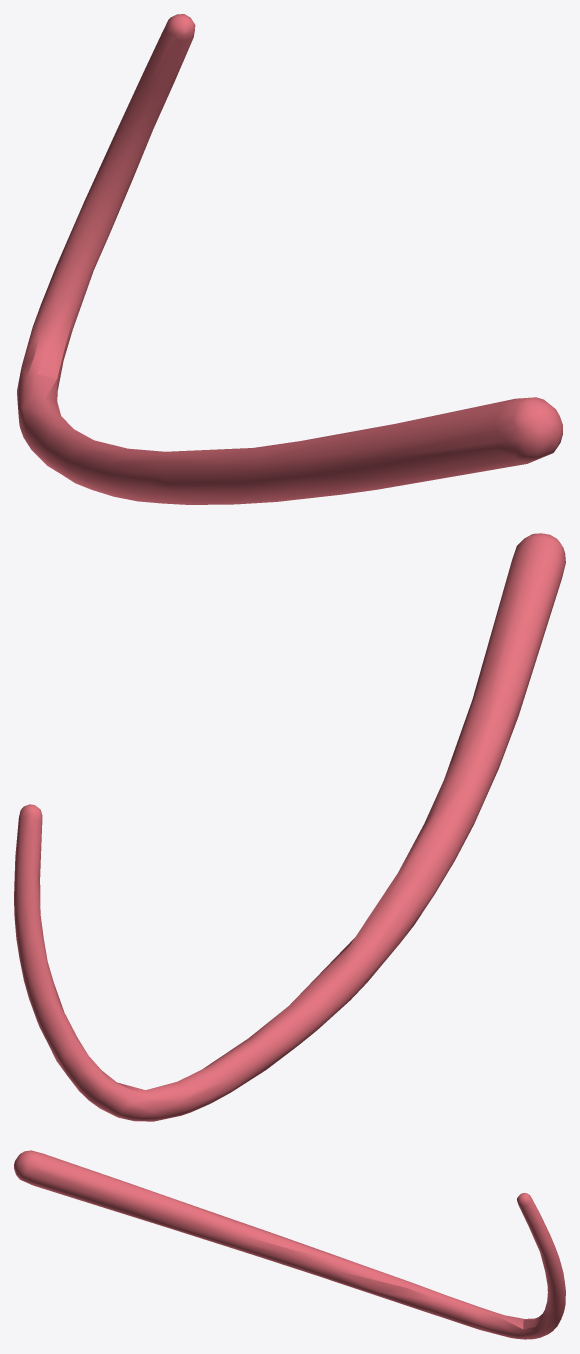
Rendered from fma23180_fj2273.glb.
The picture shows the model from 3 angles, top to bottom: view 1: azimuth 30°, elevation 25°; view 2: azimuth 150°, elevation 25°; view 3: azimuth 270°, elevation 25°; orthographic projection. The views are drawn at different scales.
Parts seen in each view (by area): view 1: FMA23180_FJ2273; view 2: FMA23180_FJ2273; view 3: FMA23180_FJ2273.
Boxes of the visible parts, x1,y1,x2,y2 form: FMA23180_FJ2273: [17, 14, 562, 504]; FMA23180_FJ2273: [14, 533, 565, 1121]; FMA23180_FJ2273: [14, 1150, 565, 1339].
Bounding box in the file's own units: 0.0101 × 0.0134 × 0.0356.
